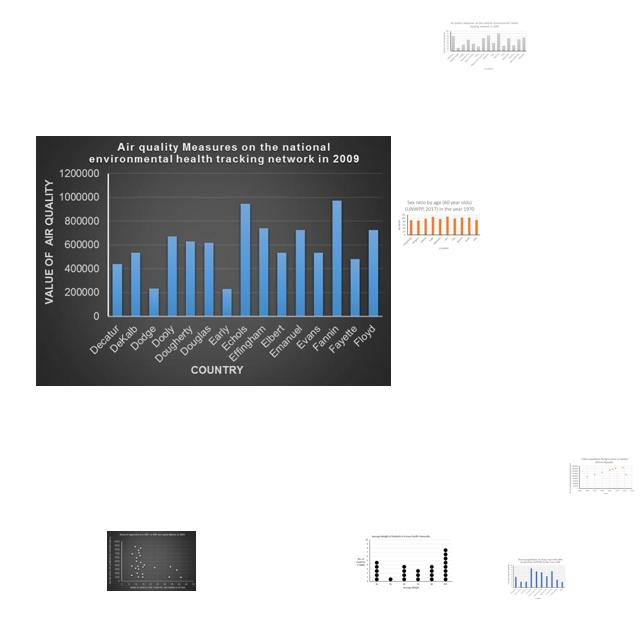Graph: (36, 136, 391, 386), (354, 533, 454, 591), (107, 531, 196, 591), (395, 198, 482, 251), (441, 20, 528, 72), (568, 457, 635, 495), (507, 558, 566, 600)
